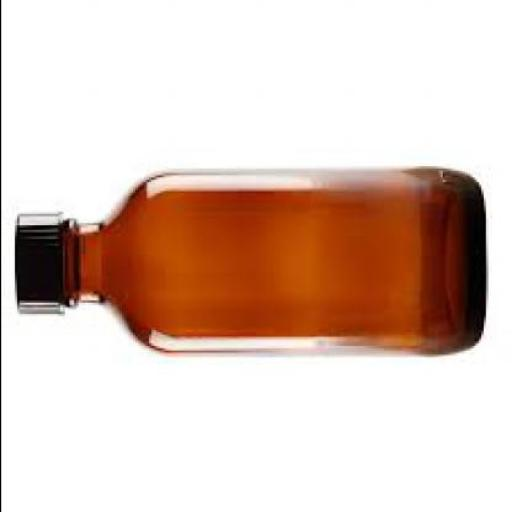glass: (59, 166, 483, 353)
plastic: (9, 211, 61, 312)
